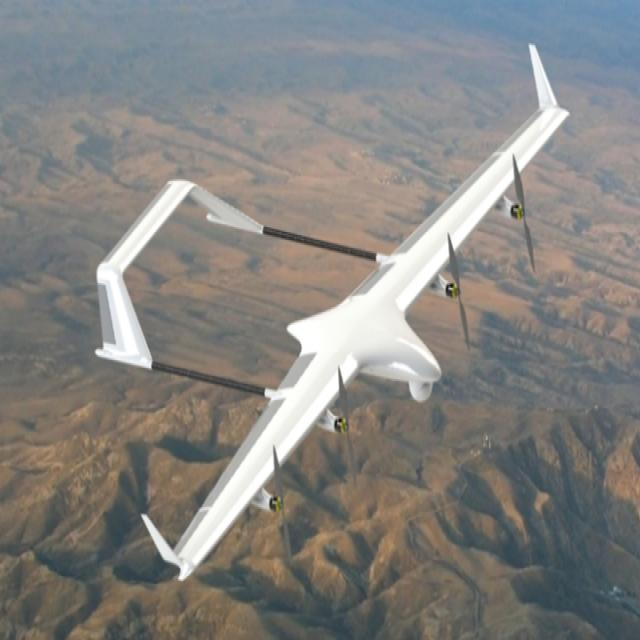iha: (88, 34, 565, 586)
